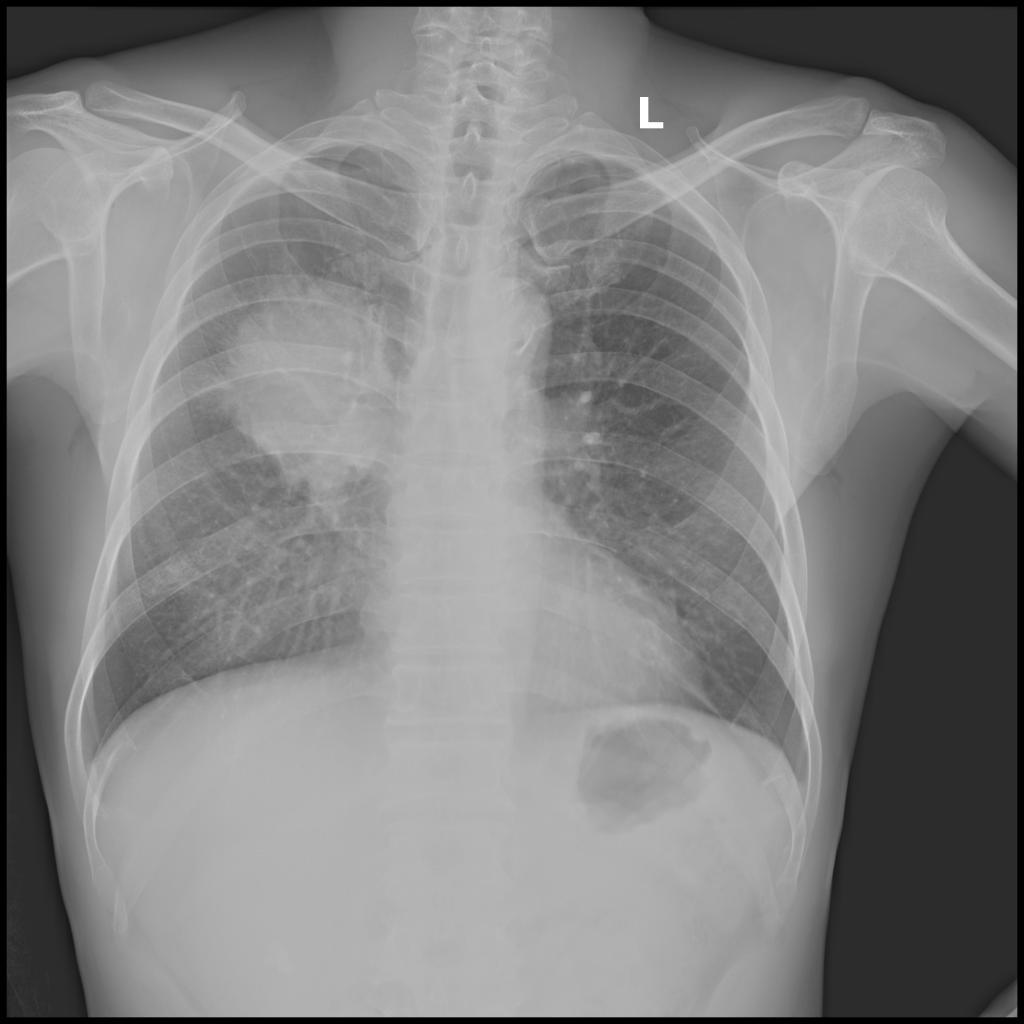Nodule: (235, 279, 395, 469)
